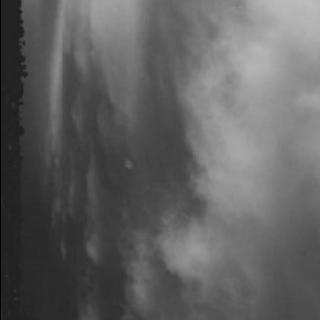Altostratus: (26, 0, 320, 320)
